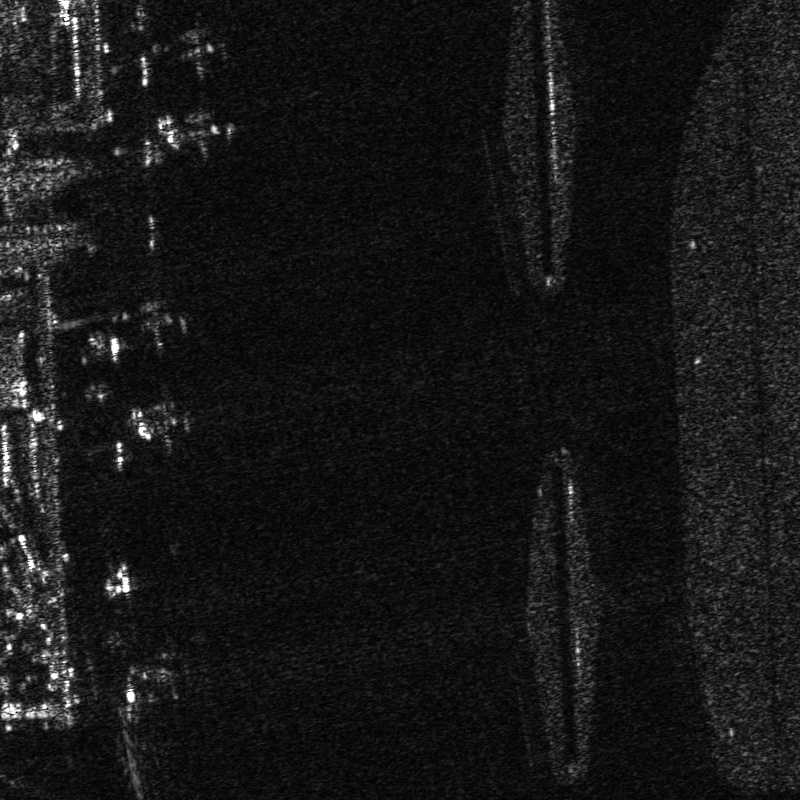A220: (147, 100, 247, 167), (146, 23, 245, 87), (102, 294, 198, 359), (122, 382, 200, 459)
